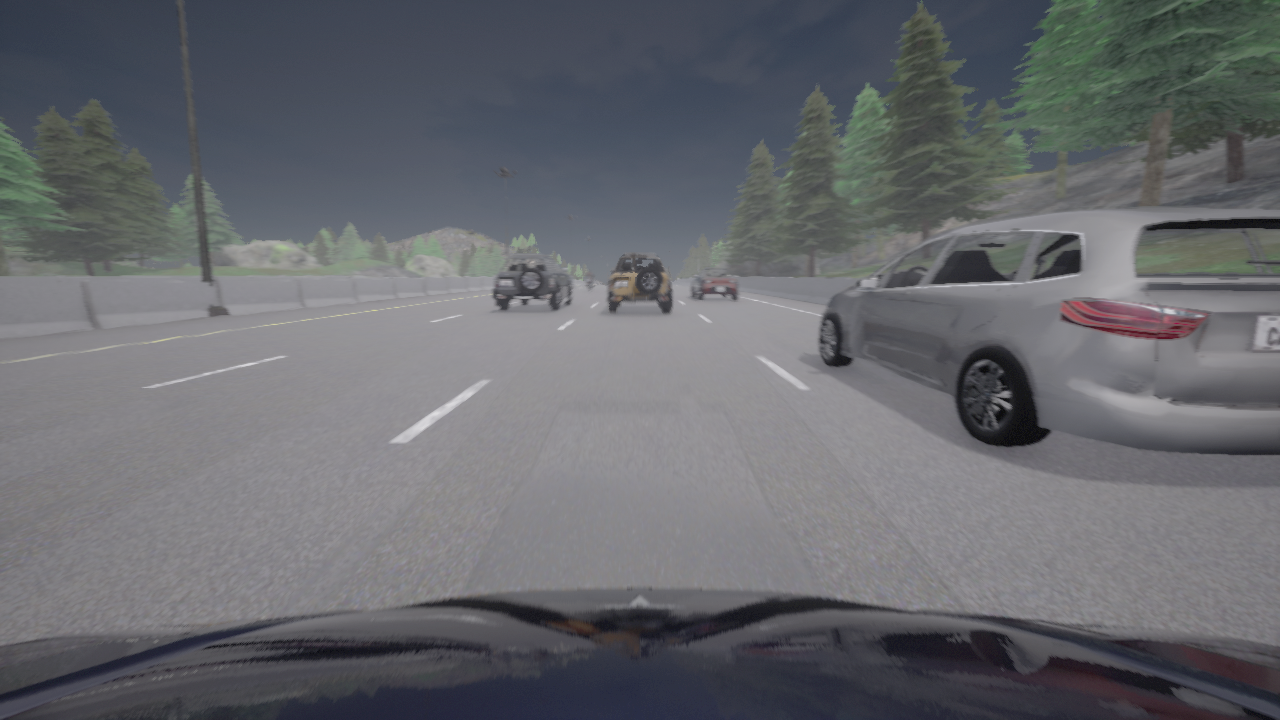cyclist: (0, 588, 1279, 719), (819, 207, 1279, 455), (493, 254, 573, 310), (608, 253, 672, 312), (692, 267, 738, 300), (586, 276, 592, 290)
